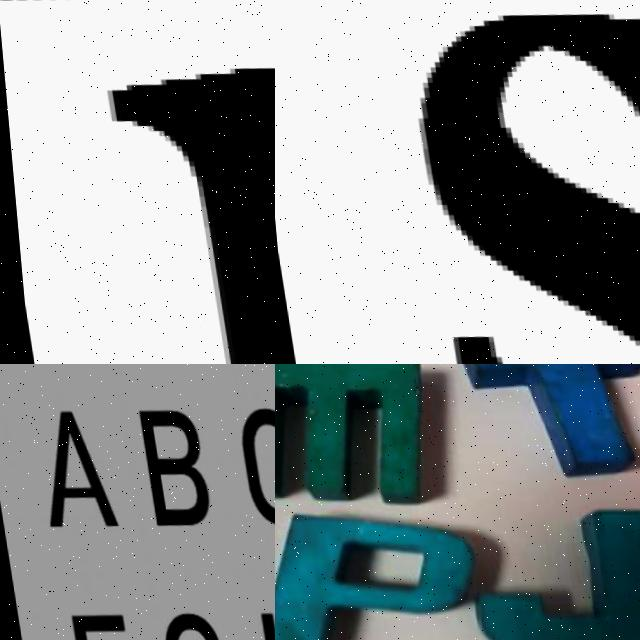J: (459, 490, 640, 640)
M: (275, 364, 436, 508)
P: (275, 497, 483, 640)
R: (82, 23, 275, 364)
S: (382, 0, 640, 364)
T: (453, 364, 640, 479)
